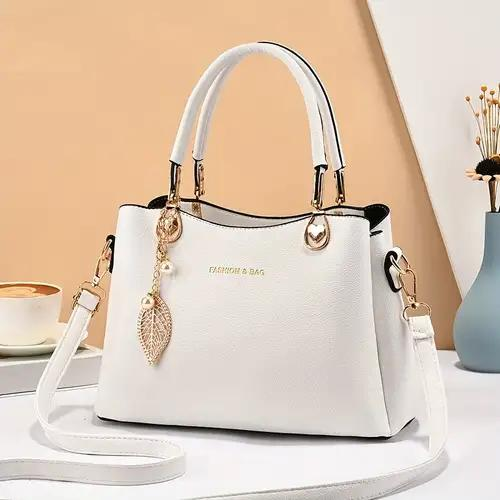handbag: (67, 42, 412, 442)
